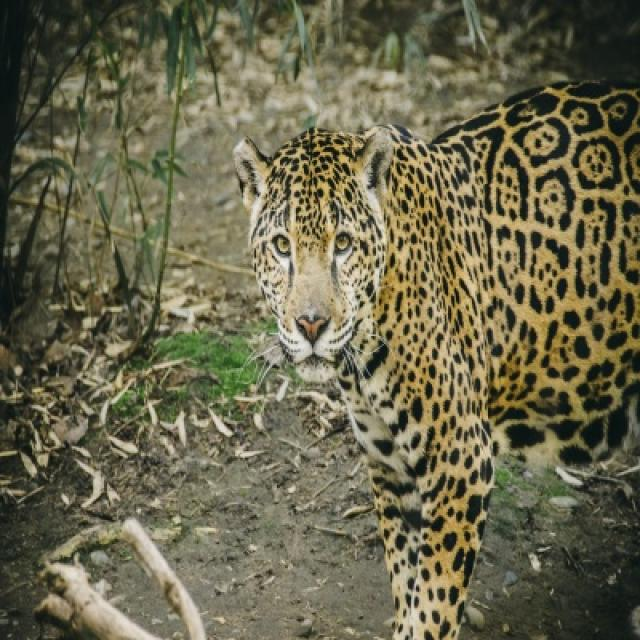Jaguar: (232, 82, 638, 638)
